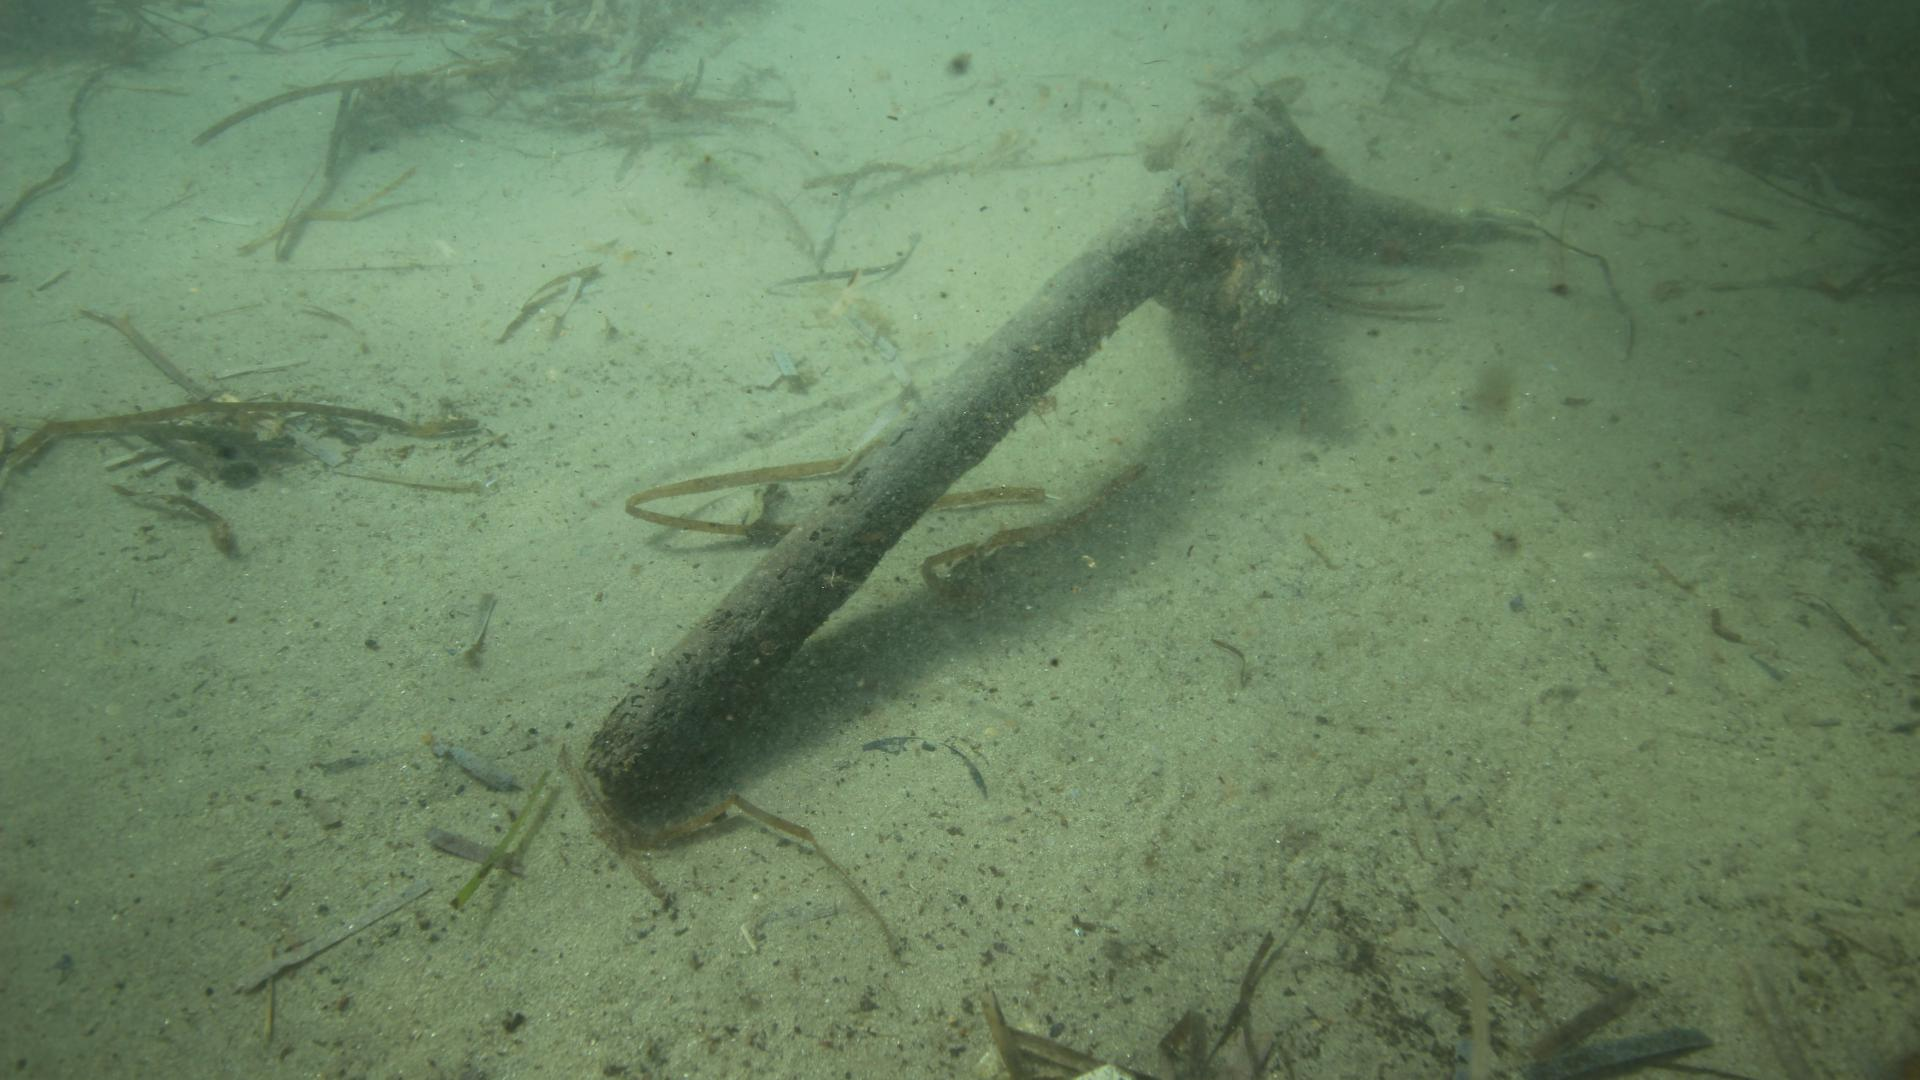wood: (583, 84, 1536, 799)
